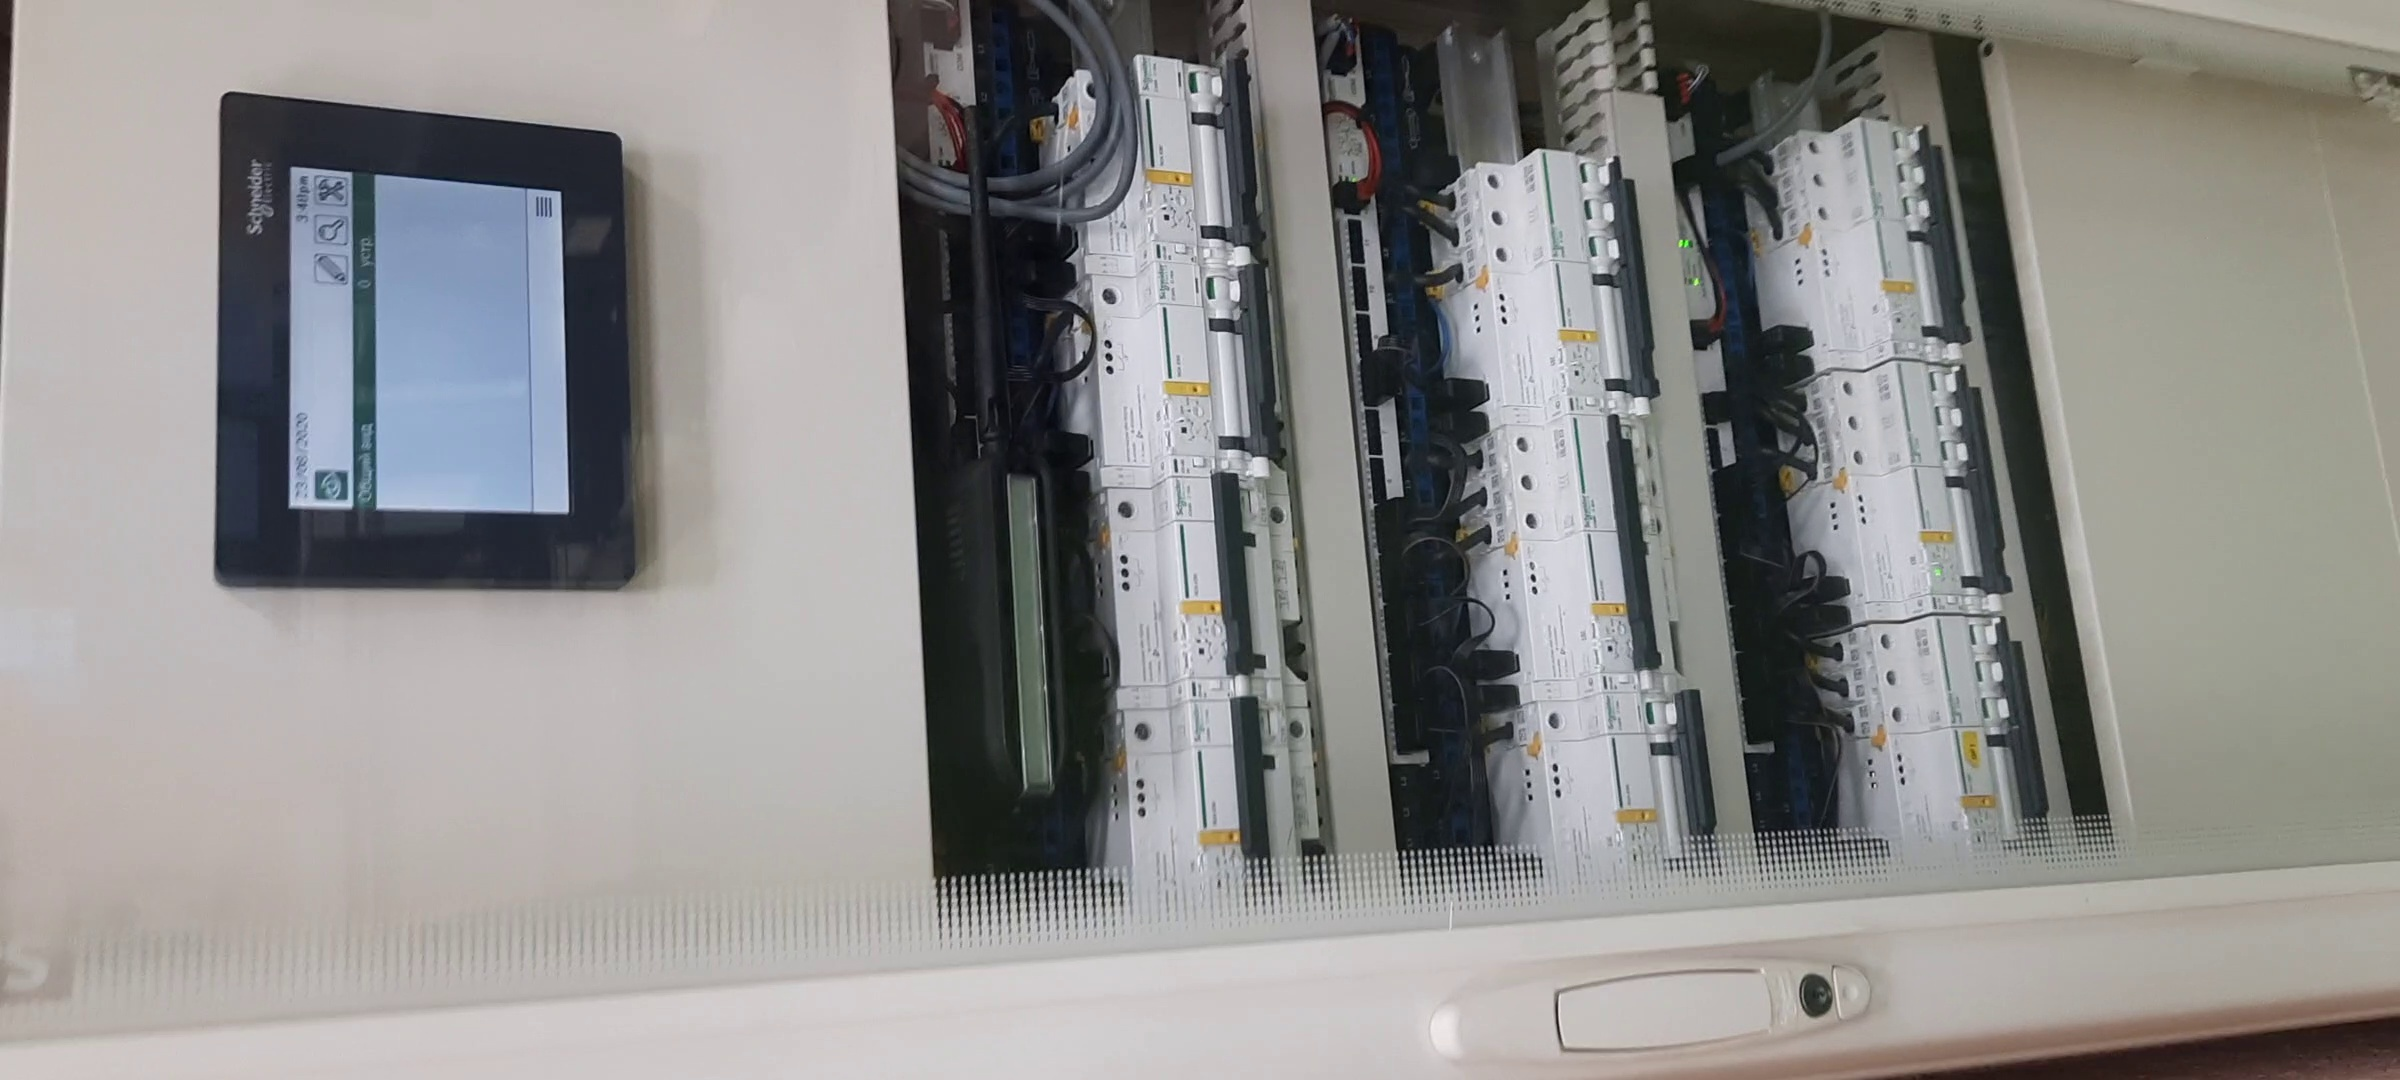smart_stand: (2, 2, 2398, 1072)
